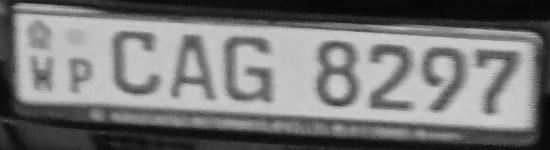2: (363, 41, 420, 119)
7: (470, 45, 522, 123)
8: (308, 35, 362, 111)
9: (418, 38, 468, 121)
A: (166, 27, 222, 107)
C: (103, 25, 166, 97)
G: (221, 32, 279, 112)
P: (63, 57, 97, 97)
W: (27, 51, 62, 101)
